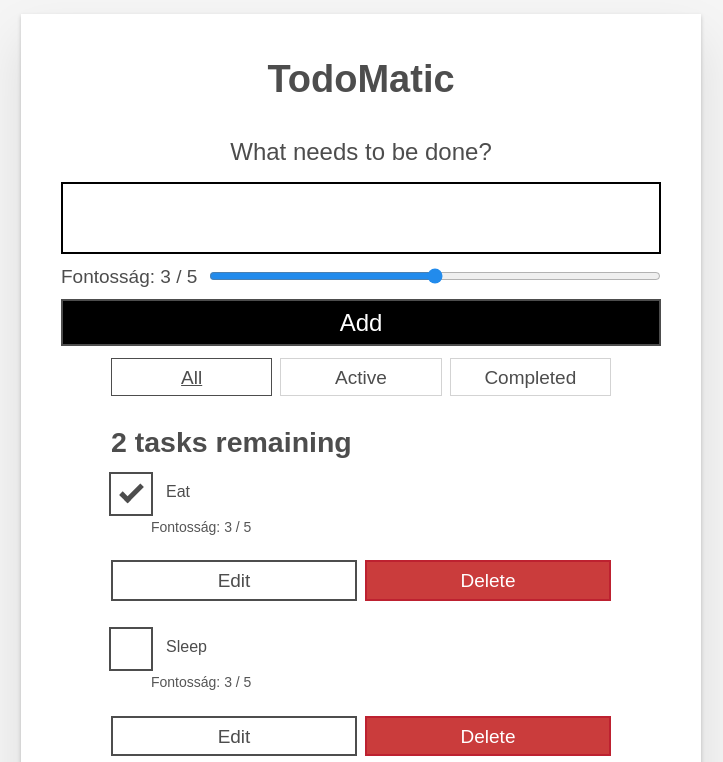
Test case: Todo app › rejects react as a task name
In the field labelled "What needs to be done?": (361, 218) [61,182,661,254], type "react"
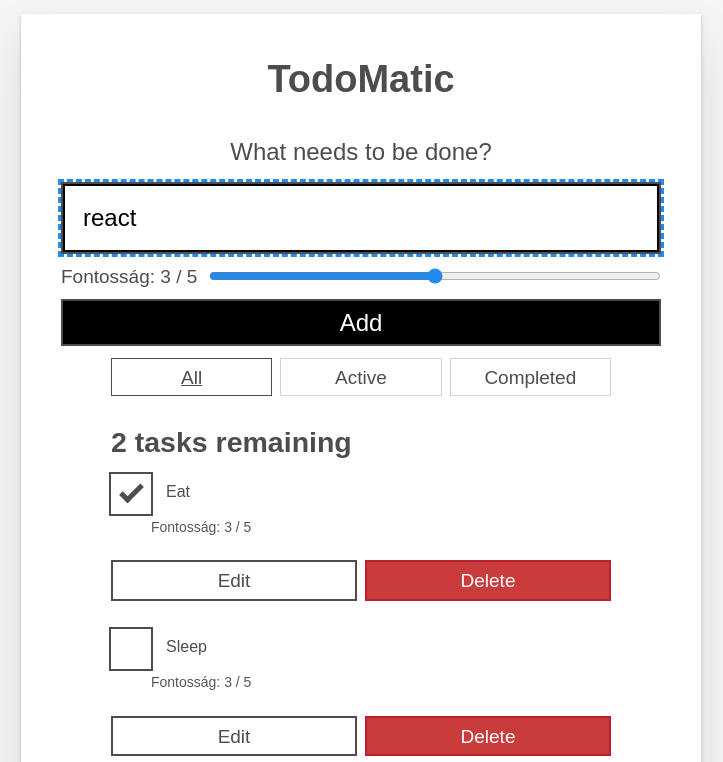
Click the button "Add": (361, 322) [61,299,661,346]
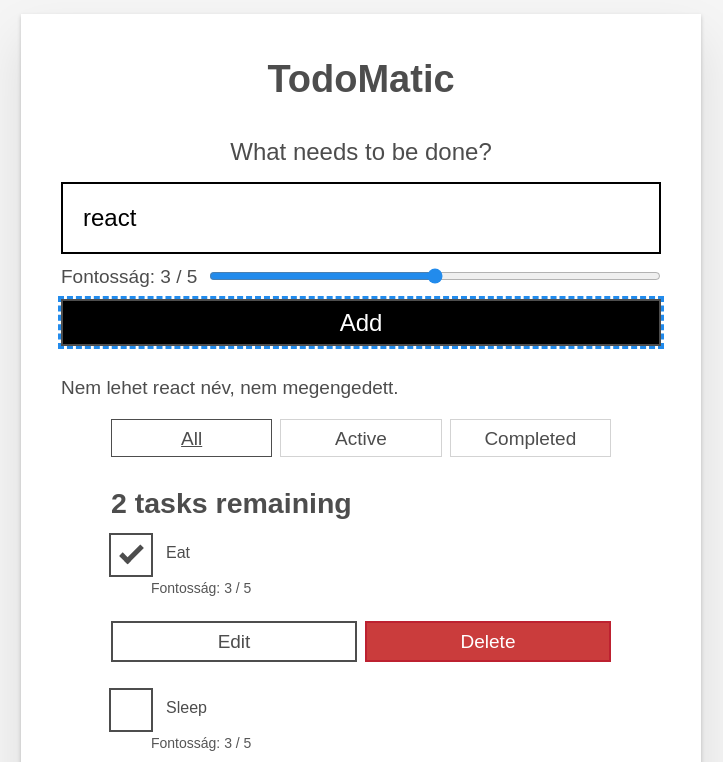
Now the text "Nem lehet react név, nem megengedett." is shown, box [61,377,399,398]
